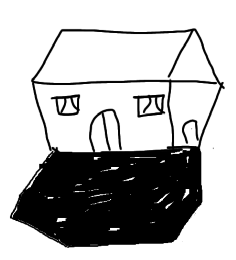door: (88, 105, 128, 156), (177, 111, 201, 147)
open_window: (130, 89, 168, 124), (50, 92, 82, 119)
roof: (25, 19, 230, 89)
shadow: (9, 145, 213, 252)
wall: (26, 75, 177, 156)
